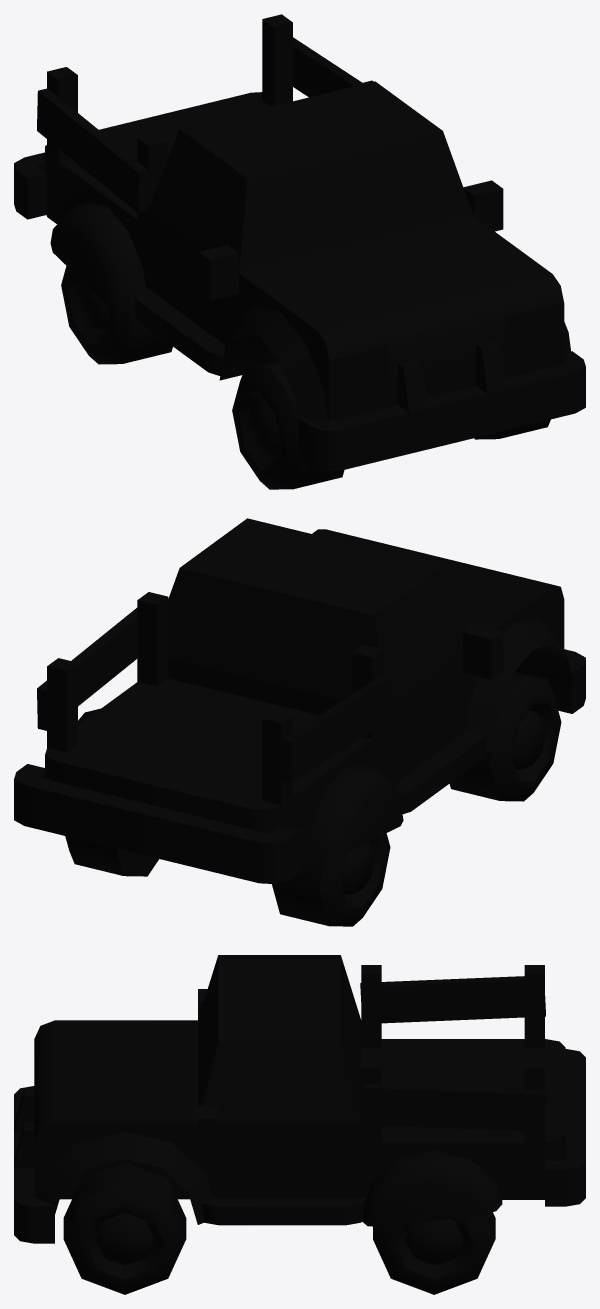
The model's file is vehicle-truck-red.glb.
3 views of the same model, one above another, from view 1: azimuth 30°, elevation 25°; view 2: azimuth 150°, elevation 25°; view 3: azimuth 270°, elevation 25° (orthographic). The views are drawn at different scales.
Parts seen in each view (by area): view 1: body, wheel-front-right, wheel-back-right; view 2: body, wheel-front-right, wheel-back-right, wheel-back-left; view 3: body, wheel-front-left, wheel-back-left.
Part boxes in pixels (x1,y1,x2,y2): body: [14, 14, 585, 471]; wheel-front-right: [232, 359, 344, 489]; wheel-back-right: [61, 266, 172, 364]; body: [14, 518, 585, 884]; wheel-front-right: [449, 671, 561, 801]; wheel-back-right: [272, 833, 390, 926]; wheel-back-left: [65, 836, 158, 876]; body: [14, 955, 585, 1243]; wheel-front-left: [63, 1162, 186, 1294]; wheel-back-left: [373, 1212, 495, 1294].
Size of the model in its own units: 1.5 by 1.3 by 2.8.
1 material, 1 textured.
